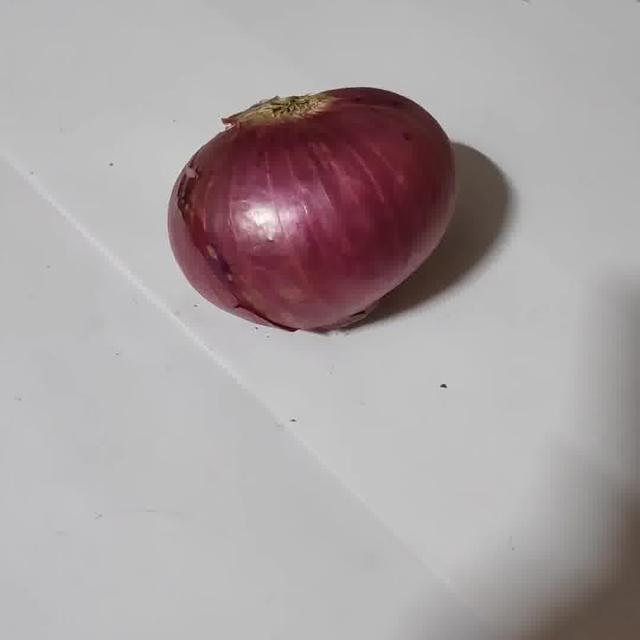Onion: (168, 88, 454, 331)
